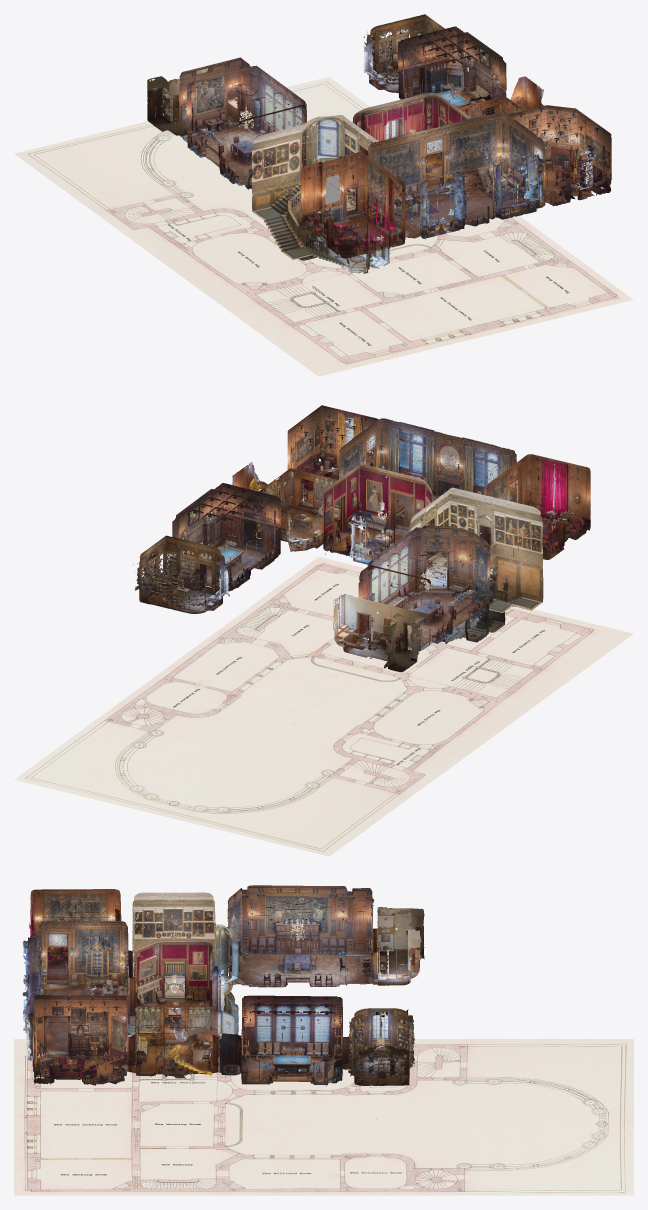
The model's file is the_hallwyl_museum_1st_floor_combined.glb.
3 renders of one model, top to bottom at view 1: azimuth 30°, elevation 25°; view 2: azimuth 150°, elevation 25°; view 3: azimuth 270°, elevation 25°, orthographic.
Parts seen in each view (by area): view 1: Floor Plan, Great Drawing Room, Dining Room, Upper Vestibule, Small Drawing Room, Billiard Room, Smoking Room, Morning Room, Porcelain Room, Serving Room, Armoury; view 2: Floor Plan, Dining Room, Upper Vestibule, Great Drawing Room, Billiard Room, Morning Room, Small Drawing Room, Porcelain Room, Serving Room, Smoking Room, Armoury; view 3: Floor Plan, Dining Room, Billiard Room, Great Drawing Room, Smoking Room, Upper Vestibule, Armoury, Morning Room, Porcelain Room, Small Drawing Room, Serving Room.
Boxes of the visible parts, x1=… form: Floor Plan: x1=14, y1=77, x2=633, y2=376; Great Drawing Room: x1=368, y1=112, x2=545, y2=239; Dining Room: x1=179, y1=57, x2=306, y2=189; Upper Vestibule: x1=251, y1=115, x2=390, y2=273; Small Drawing Room: x1=300, y1=152, x2=405, y2=258; Billiard Room: x1=398, y1=26, x2=506, y2=115; Smoking Room: x1=509, y1=105, x2=611, y2=206; Morning Room: x1=352, y1=92, x2=470, y2=191; Porcelain Room: x1=363, y1=14, x2=444, y2=95; Serving Room: x1=147, y1=68, x2=239, y2=136; Armoury: x1=454, y1=76, x2=543, y2=118; Floor Plan: x1=14, y1=557, x2=633, y2=856; Dining Room: x1=358, y1=525, x2=492, y2=651; Upper Vestibule: x1=407, y1=487, x2=543, y2=643; Great Drawing Room: x1=339, y1=418, x2=516, y2=530; Billiard Room: x1=172, y1=483, x2=280, y2=591; Morning Room: x1=323, y1=465, x2=434, y2=564; Small Drawing Room: x1=480, y1=454, x2=590, y2=559; Porcelain Room: x1=133, y1=535, x2=230, y2=613; Serving Room: x1=333, y1=594, x2=427, y2=672; Smoking Room: x1=287, y1=405, x2=378, y2=507; Armoury: x1=232, y1=462, x2=340, y2=551; Floor Plan: x1=14, y1=1039, x2=633, y2=1195; Dining Room: x1=227, y1=885, x2=374, y2=987; Billiard Room: x1=219, y1=995, x2=342, y2=1085; Great Drawing Room: x1=22, y1=920, x2=130, y2=1055; Smoking Room: x1=23, y1=995, x2=129, y2=1085; Upper Vestibule: x1=128, y1=892, x2=239, y2=1036; Armoury: x1=128, y1=1005, x2=235, y2=1078; Morning Room: x1=128, y1=938, x2=224, y2=1043; Porcelain Room: x1=342, y1=1008, x2=414, y2=1085; Small Drawing Room: x1=29, y1=889, x2=132, y2=984; Serving Room: x1=373, y1=907, x2=424, y2=985.
Size of the model in its own units: 28.63 by 14.74 by 47.92.
Materials: 12 (11 with a texture image).
